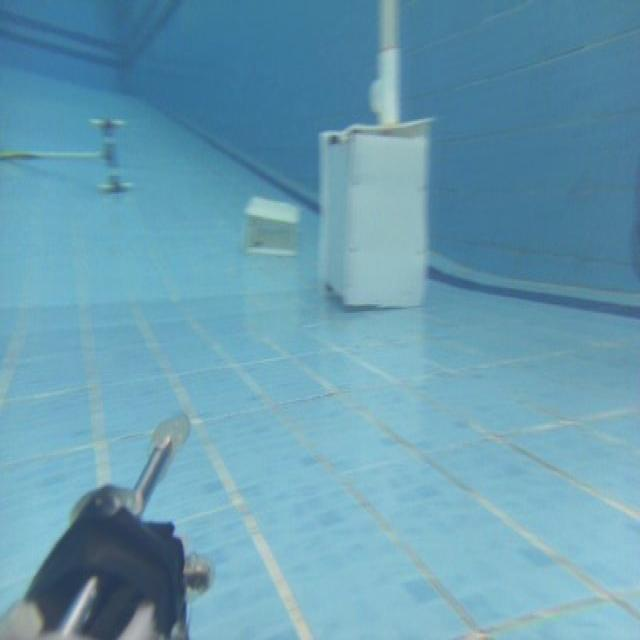Cube: (316, 116, 433, 311)
Cuboid: (243, 194, 300, 256)
